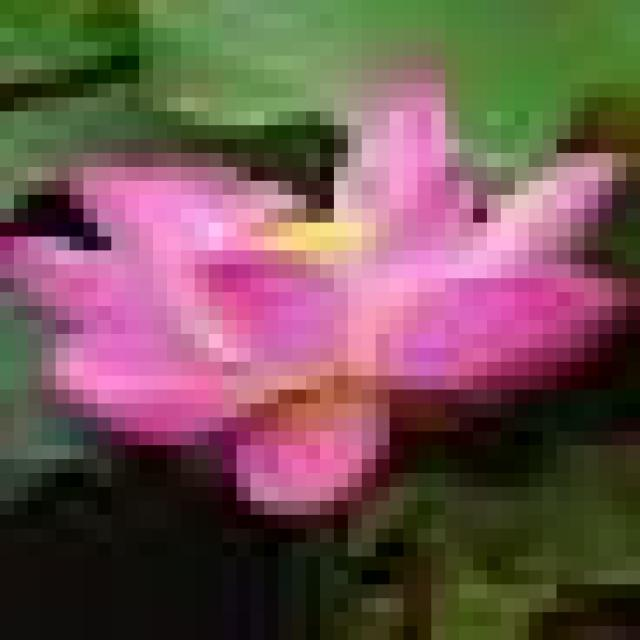lotus: (0, 31, 640, 612)
